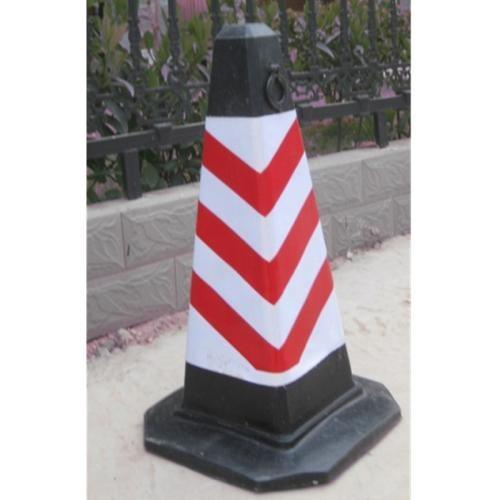cone_barrel: (154, 22, 386, 466)
